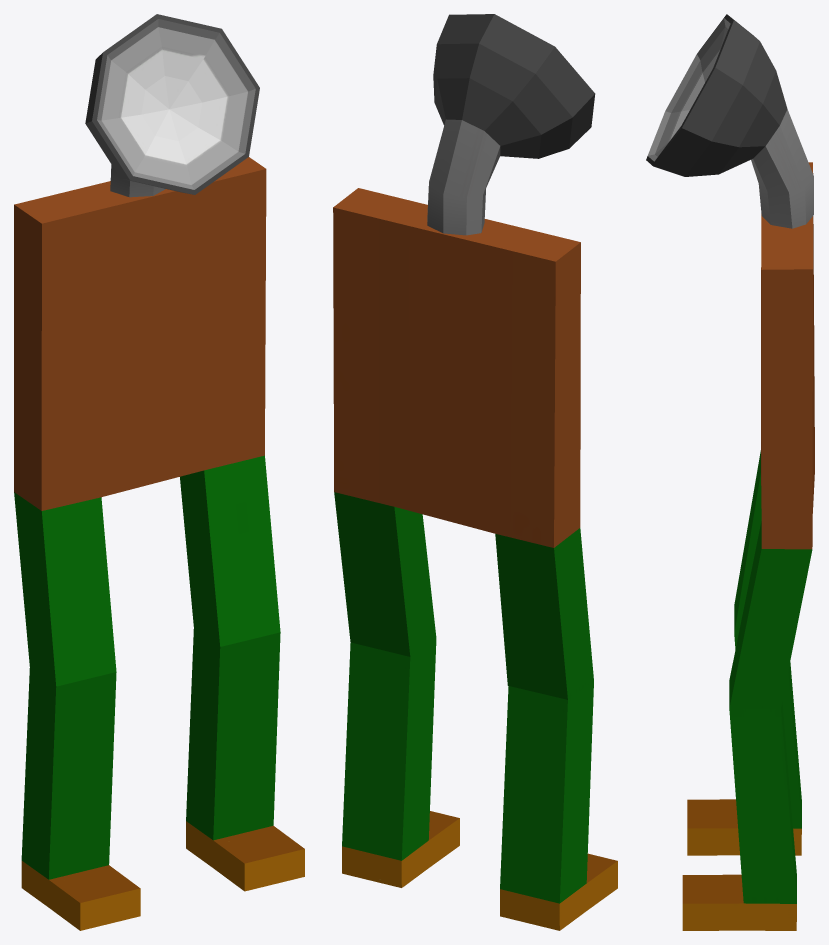
The model's file is Enemigo.obj.
3 renders of one model, left to right at view 1: azimuth 30°, elevation 25°; view 2: azimuth 150°, elevation 25°; view 3: azimuth 270°, elevation 25°, orthographic. The views are drawn at different scales.
Parts seen in each view (by area): view 1: pCube17; view 2: pCube17; view 3: pCube17.
Boxes of the visible parts, x1=… form: pCube17: x1=14, y1=14, x2=304, y2=930; pCube17: x1=333, y1=14, x2=617, y2=930; pCube17: x1=646, y1=14, x2=814, y2=930.
Size of the model in its own units: 3.07 by 11.39 by 2.04.
